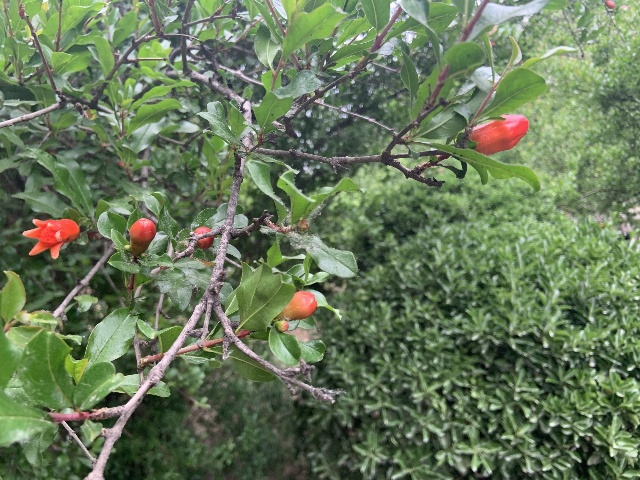bud: (470, 115, 529, 156), (128, 217, 155, 256), (281, 290, 316, 320), (193, 227, 213, 249), (274, 320, 289, 332), (605, 0, 615, 8)
flower: (22, 217, 79, 259)
